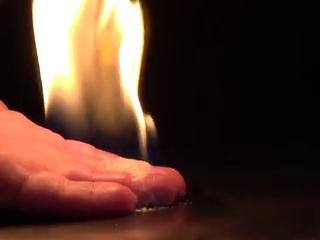Fire: (34, 1, 144, 161)
